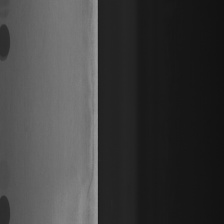oil_spot: (0, 179, 13, 223), (0, 18, 12, 64)
